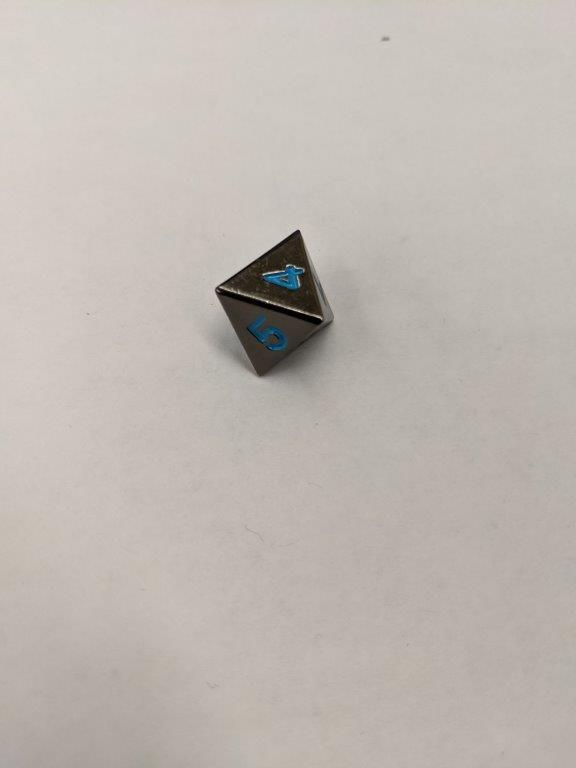d8-4: (211, 228, 335, 380)
